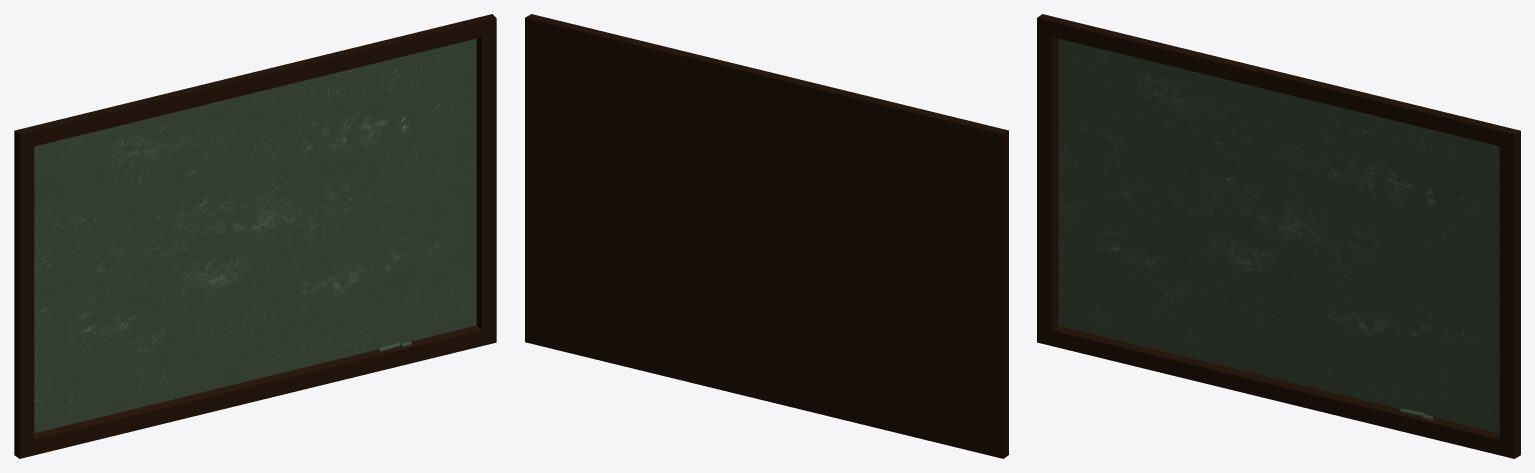
Rendered from chalkboard.FBX.
The picture shows the model from 3 angles, left to right: view 1: azimuth 30°, elevation 25°; view 2: azimuth 150°, elevation 25°; view 3: azimuth 330°, elevation 25°; orthographic projection.
Parts seen in each view (by area): view 1: Box001; view 2: Box001; view 3: Box001.
Part boxes in pixels (left/top/right/bottom): Box001: left=14, top=14, right=496, bottom=458; Box001: left=525, top=14, right=1008, bottom=458; Box001: left=1037, top=14, right=1520, bottom=458.
Size of the model in its own units: 227 by 147 by 4.46.
Materials: 3 (2 with a texture image).
